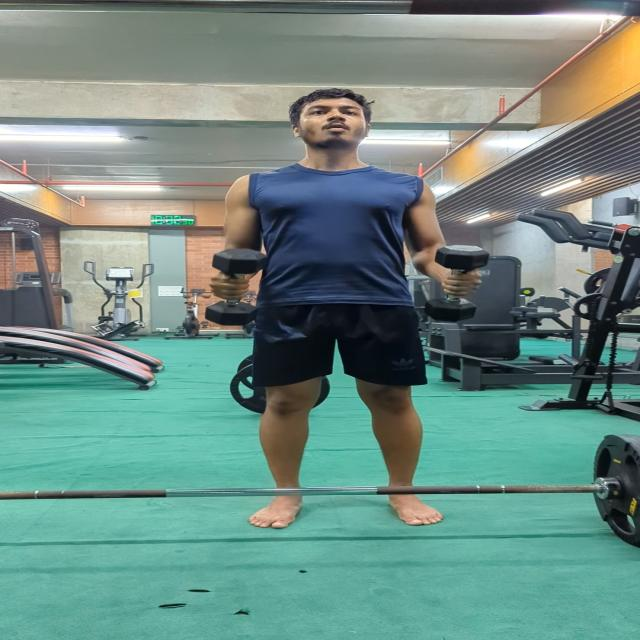Normal_DumbbellBicepCurls: (182, 85, 498, 533)
